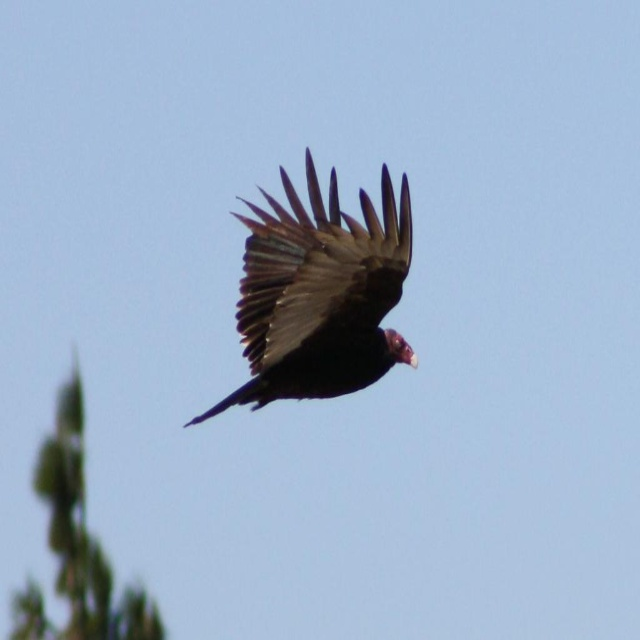Eagle: (180, 144, 423, 429)
